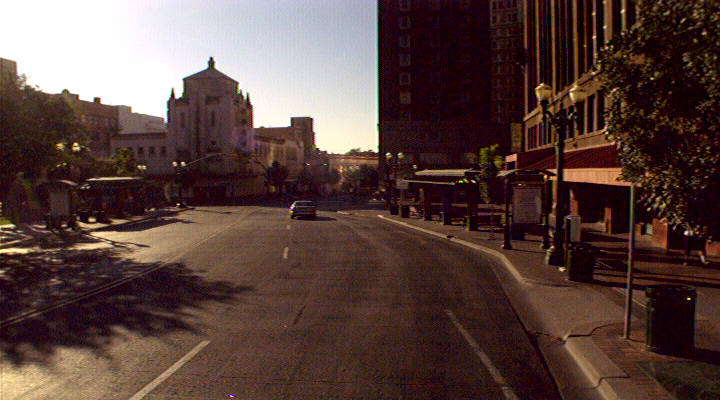Ramp: (515, 275, 645, 341)
